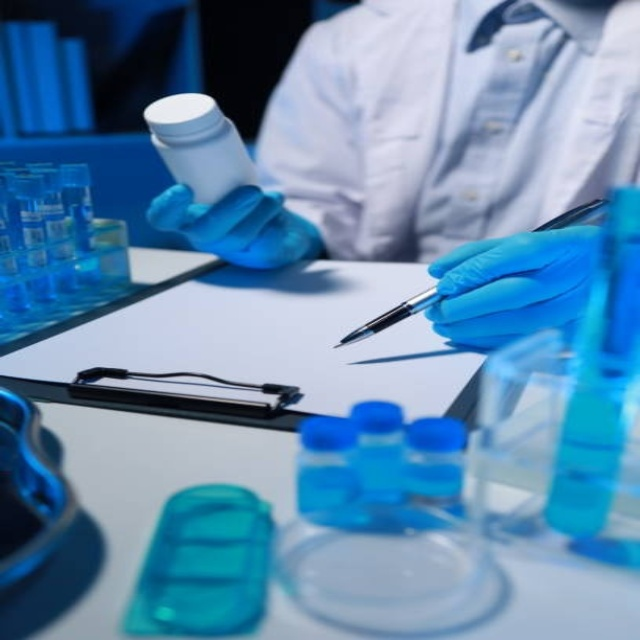Gafas: (68, 367, 303, 416)
Guantes: (420, 225, 605, 353), (146, 179, 324, 270)
